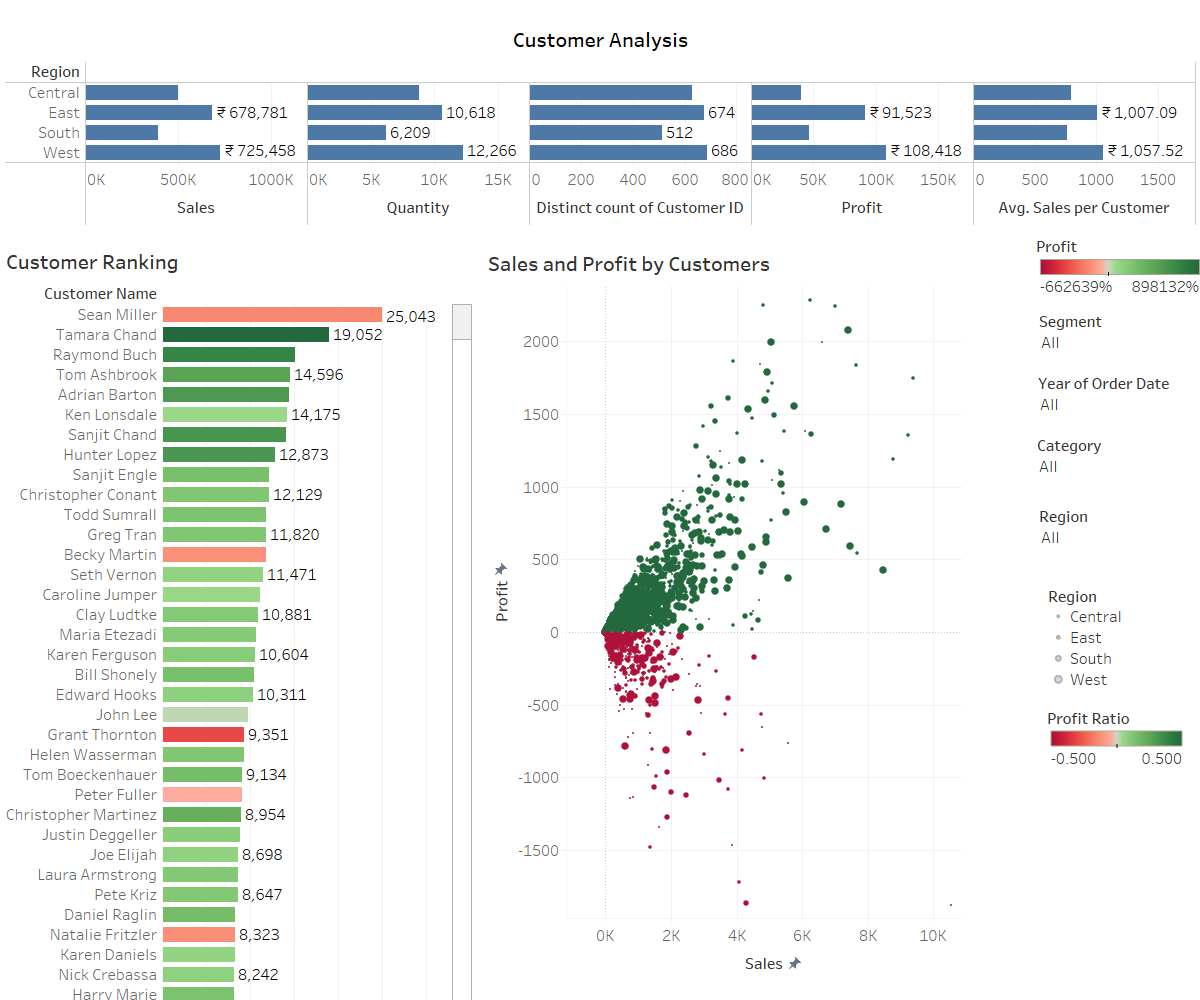

Layout of this report page (visuals, bound fields, positions):
{"tool":"tableau","page":{"name":"CustomerAnalysis_Dashboard","canvas":[1200,1000],"ordinal":0},"visuals":[{"type":"worksheet","title":" Customer Stats","mark":"Automatic","rows":["Region"],"cols":["Sales","Quantity","Customer ID","Profit","Calculation_976718224447713284"],"box":[5,18.7,1194,227.3]},{"type":"legend","title":"Customer/Profit Analysis","param":"[federated.138msja13dv2om1bj7s4w055qo69].[sum:Profit:qk]","box":[1036,232,168,69]},{"type":"worksheet","title":"Sales and Profit ","mark":"Automatic","rows":["Profit"],"cols":["Sales"],"box":[484,243,478,738]},{"type":"filter","title":"Sales and Profit ","param":"[federated.138msja13dv2om1bj7s4w055qo69].[none:Segment:nk]","box":[1039,310,160,53]},{"type":"filter","title":"Sales and Profit ","param":"[federated.138msja13dv2om1bj7s4w055qo69].[yr:Order Date:ok]","box":[1038,372,160,56]},{"type":"filter","title":"Sales and Profit ","param":"[federated.138msja13dv2om1bj7s4w055qo69].[none:Category:nk]","box":[1037,434,160,53]},{"type":"filter","title":"Sales and Profit ","param":"[federated.138msja13dv2om1bj7s4w055qo69].[none:Region:nk]","box":[1039,505,160,53]},{"type":"legend","title":"Sales and Profit ","param":"[federated.138msja13dv2om1bj7s4w055qo69].[none:Region:nk]","box":[1047,584,140,106]},{"type":"legend","title":"Sales and Profit ","param":"[federated.138msja13dv2om1bj7s4w055qo69].[sum:Calculation_976718224458809350:qk]","box":[1047,704,140,88]}]}

Visuals, with their boxes in screenshot pixels (x1, y1, x2, y2), scaled from the page's 1200x1000 canvas onto the 1200x1000 screenshot:
" Customer Stats" worksheet: bbox=[5, 19, 1199, 246]
"Customer/Profit Analysis" legend: bbox=[1036, 232, 1199, 301]
"Sales and Profit " worksheet: bbox=[484, 243, 962, 981]
"Sales and Profit " filter: bbox=[1039, 310, 1199, 363]
"Sales and Profit " filter: bbox=[1038, 372, 1198, 428]
"Sales and Profit " filter: bbox=[1037, 434, 1197, 487]
"Sales and Profit " filter: bbox=[1039, 505, 1199, 558]
"Sales and Profit " legend: bbox=[1047, 584, 1187, 690]
"Sales and Profit " legend: bbox=[1047, 704, 1187, 792]
